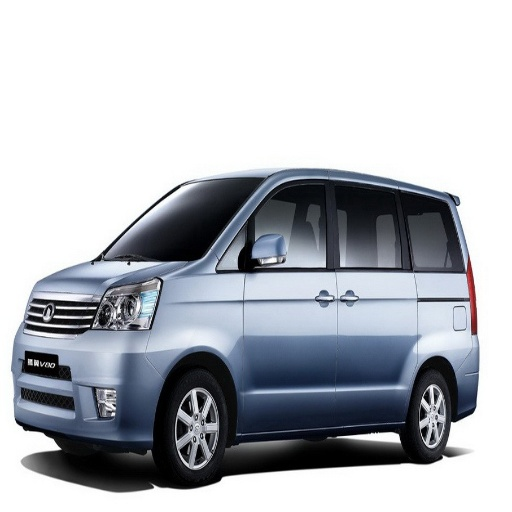back_left_door: (331, 178, 452, 415)
front_bumper: (11, 286, 179, 442)
front_glass: (97, 178, 262, 260)
front_left_door: (223, 178, 337, 426)
trunk: (431, 326, 474, 389)
